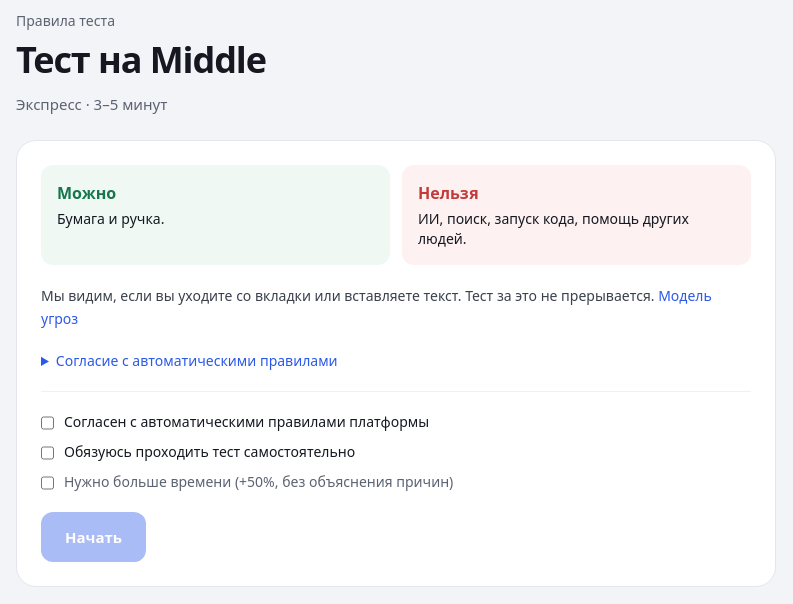
RulesPage › start disabled until both rules consent and pledge are checked
Expected: the button "Начать" is disabled, [41,512,146,562]
Step 1. Click the checkbox labelled "Согласен с автоматическими правилами платформы" → (48, 423), box [41,414,54,432]
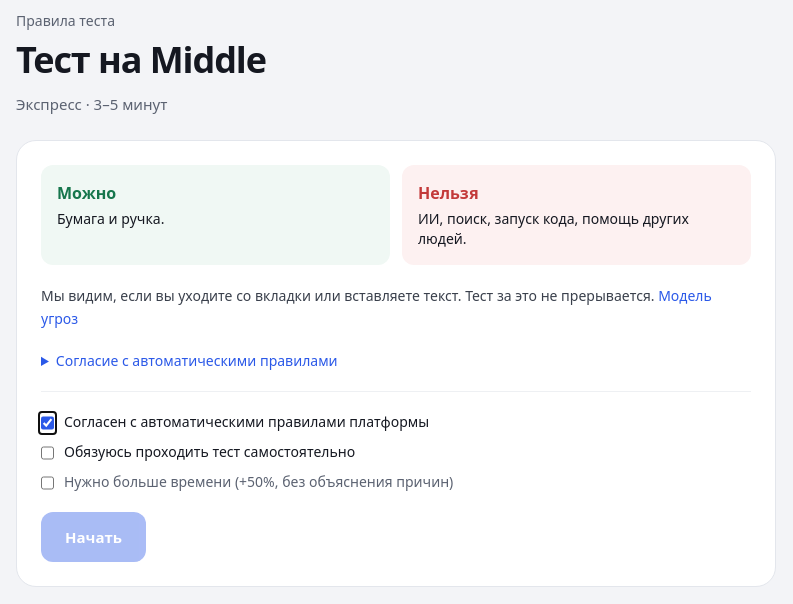
Expected: the button "Начать" is disabled, [41,512,146,562]
Step 2. Click the checkbox labelled "Обязуюсь проходить тест самостоятельно" → (48, 453), box [41,444,54,462]
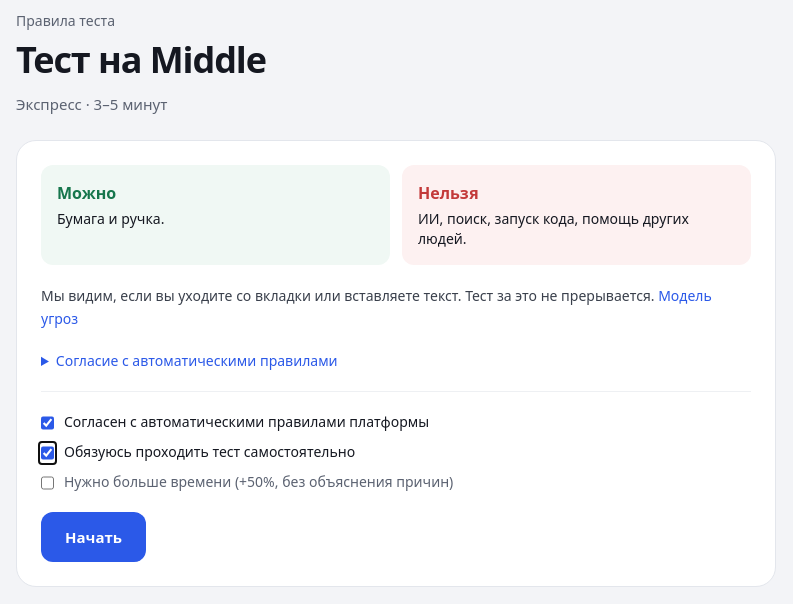
Expected: the text "Экспресс · 3–5 минут" is shown, [16,94,167,114]
Expected: the button "Начать" is enabled, [41,512,146,562]
